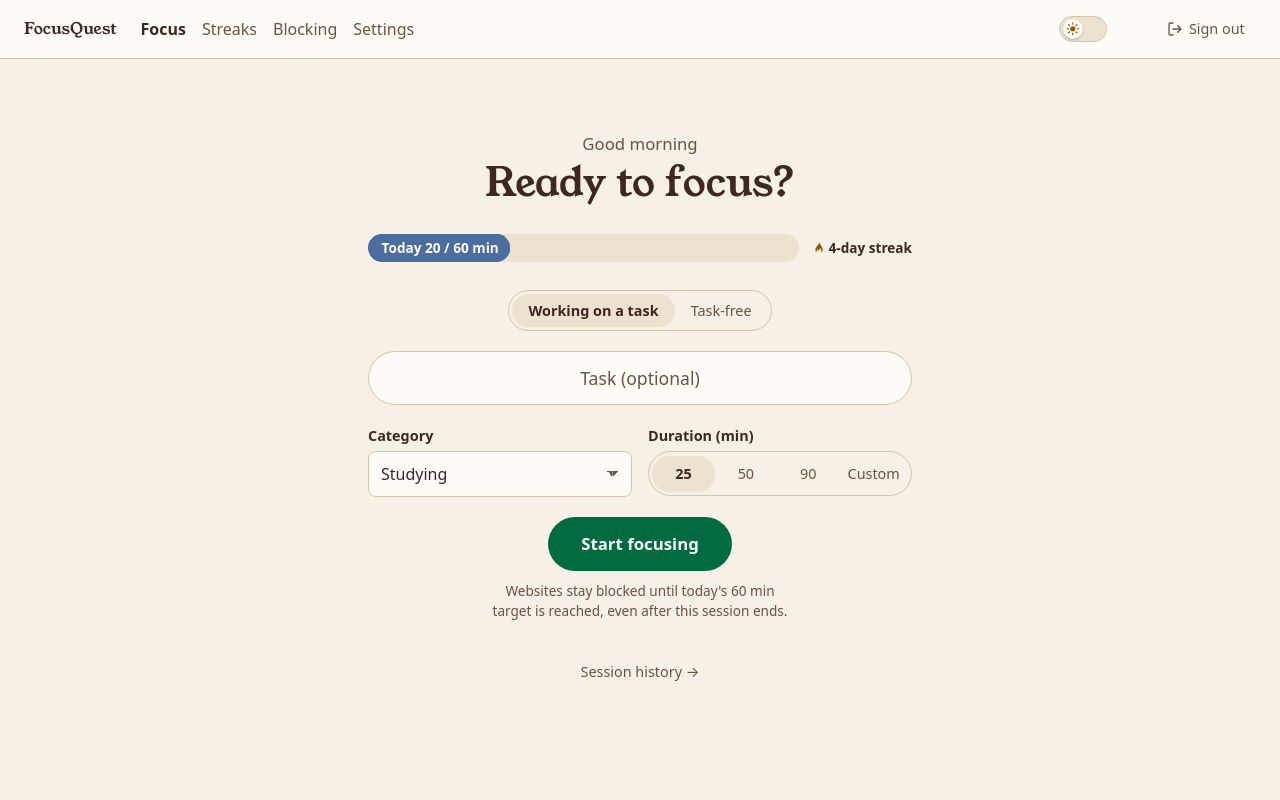
DashboardView › creates a session from the form and starts it in one step
Select "Coding" in the dropdown labelled "Category" at (500, 474), box x1=368 y1=451 x2=632 y2=496
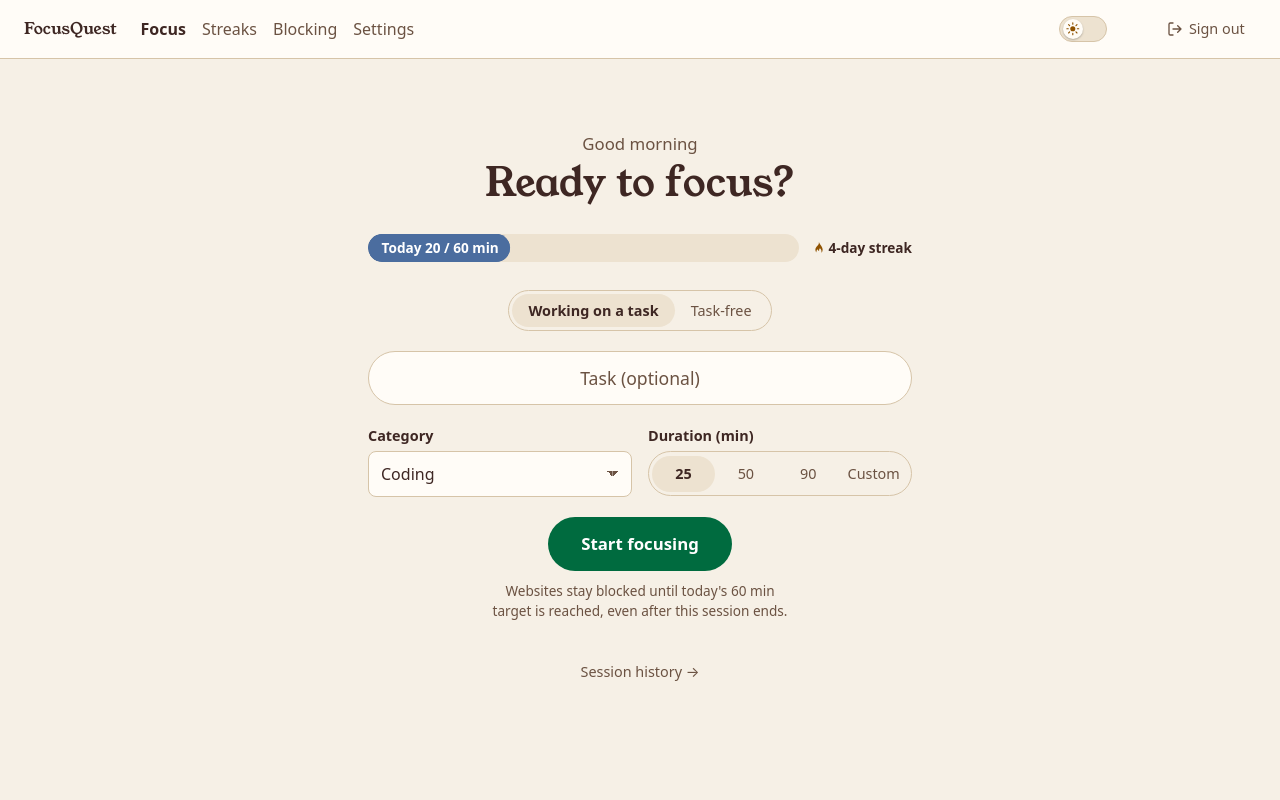
Submit the form, box x1=368 y1=290 x2=912 y2=621
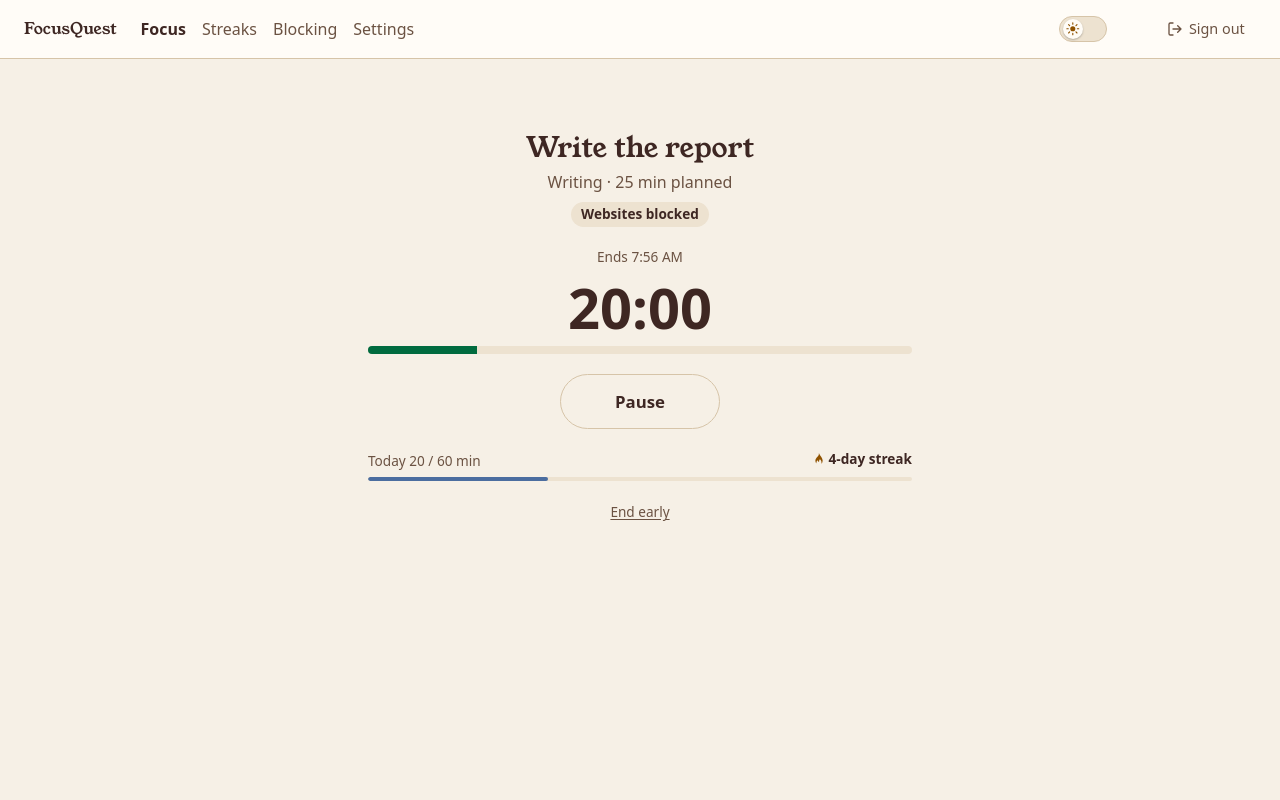
Now the button "Pause" is shown, box x1=560 y1=374 x2=720 y2=428
